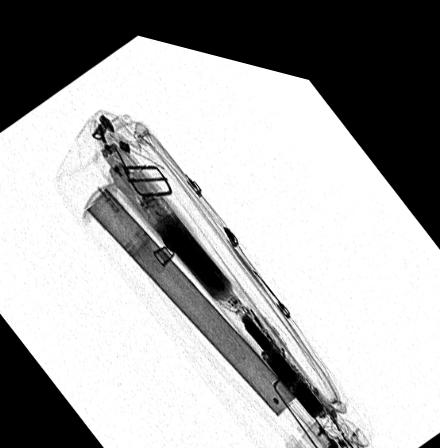Baton: (98, 135, 366, 441)
